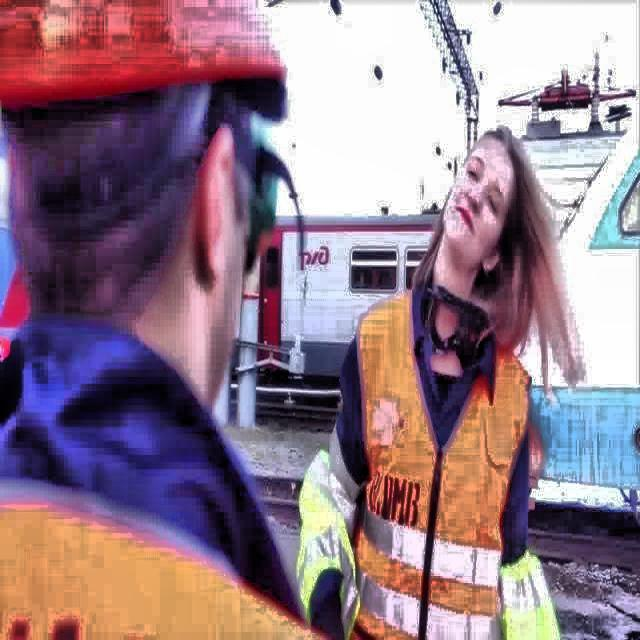safety_jacket: (354, 298, 533, 640)
